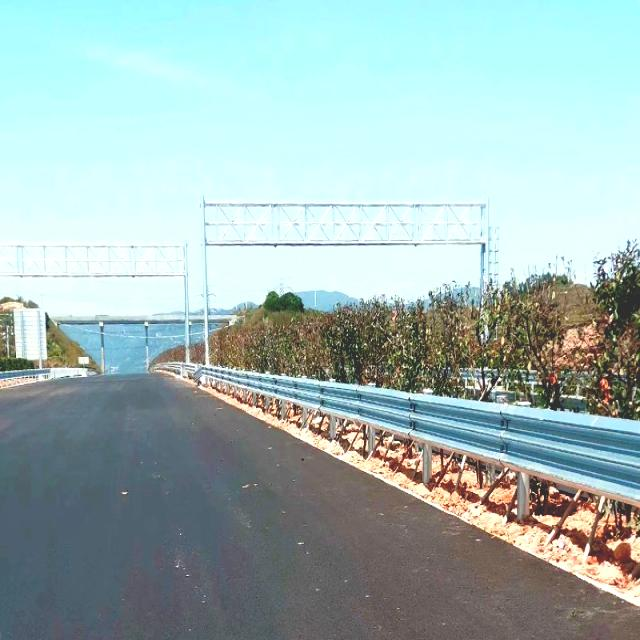Guard rail: (162, 363, 640, 505)
